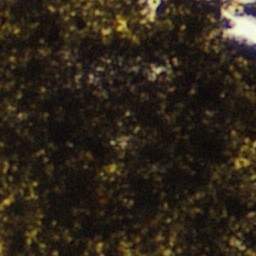cement_matrix: (0, 0, 255, 255), (241, 3, 255, 17)
gravel_crushed_stones: (223, 0, 255, 45), (145, 0, 158, 17)
